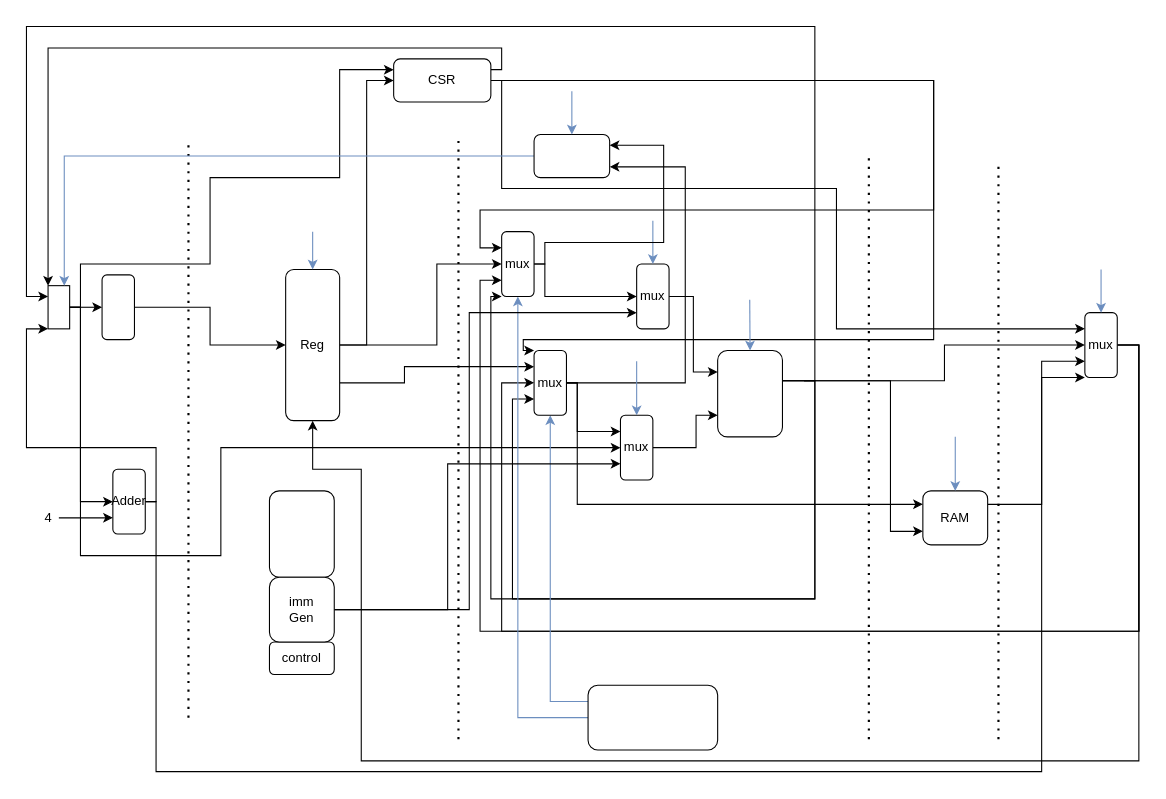
Image size: 1166x799. Some labels were removed from this diagram. Each missing label, with the centre of its shape:
ALU: the point at 749,393
forwarding-data: the point at 652,717
Jump_Union: the point at 571,155
PC: the point at 58,307
ROM: the point at 117,307
Signal: the point at 301,533
